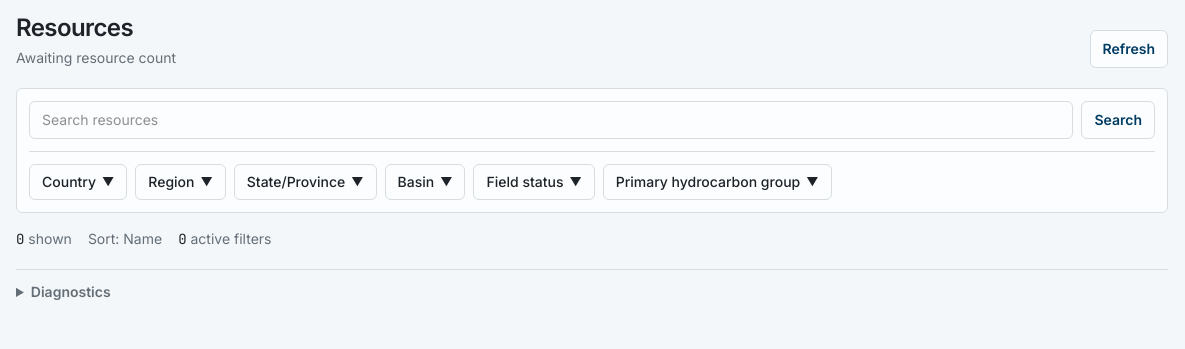
Test: ResourcesView › filtering › gives the Country filter a search box: true
This screenshot has width=1185, height=349.
Click the button "Country ▼" at (78, 182), box [29, 164, 127, 200]
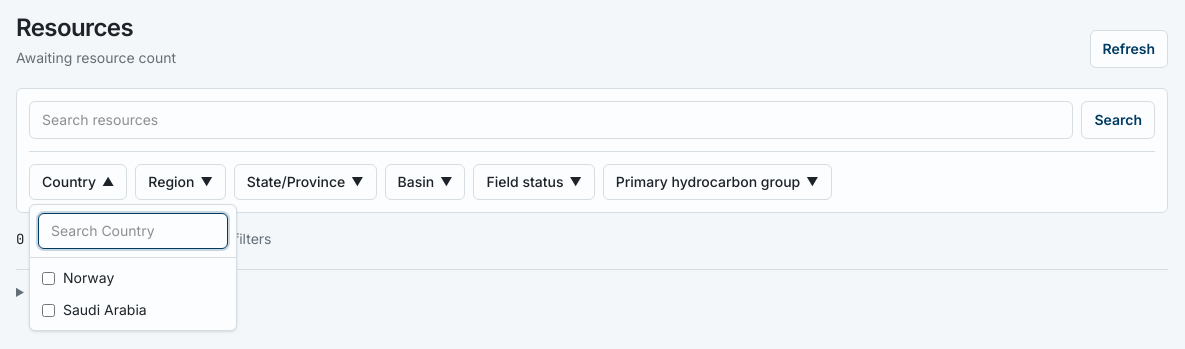
Result: the search field labelled "Search Country" is shown at [38, 213, 228, 249]
